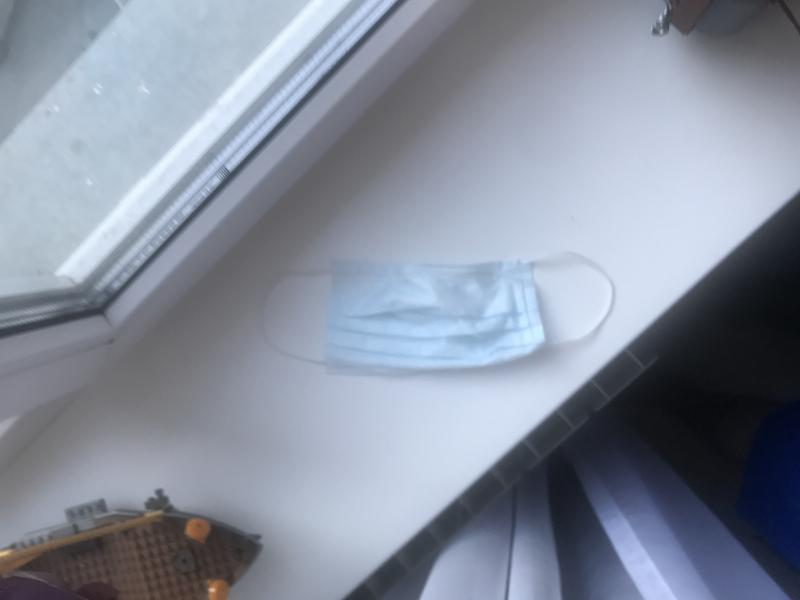medical_mask: (258, 249, 616, 361)
